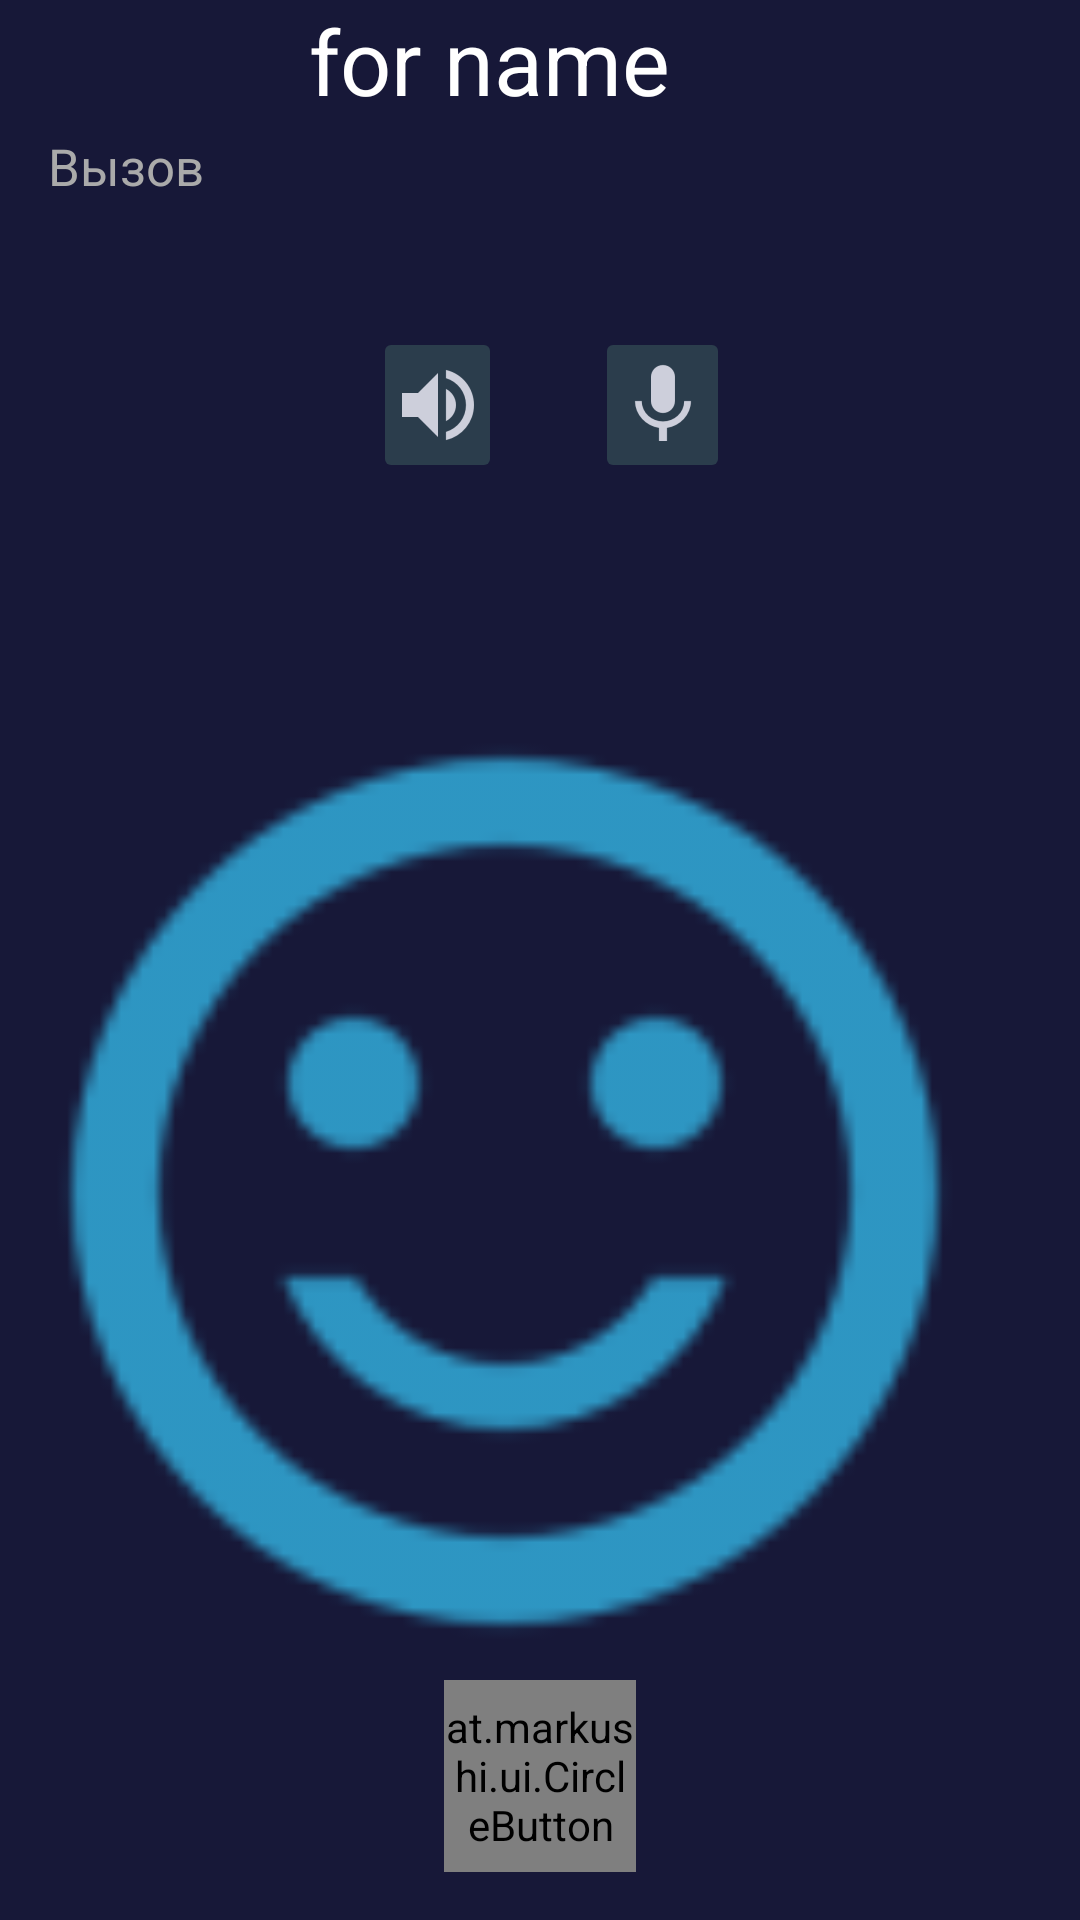

Where icons sit on this 1080px×1920px app screen, as bbox(x1, y1, x2, y2):
call mic on: bbox(607, 345, 718, 465)
call volume on: bbox(385, 345, 490, 465)
